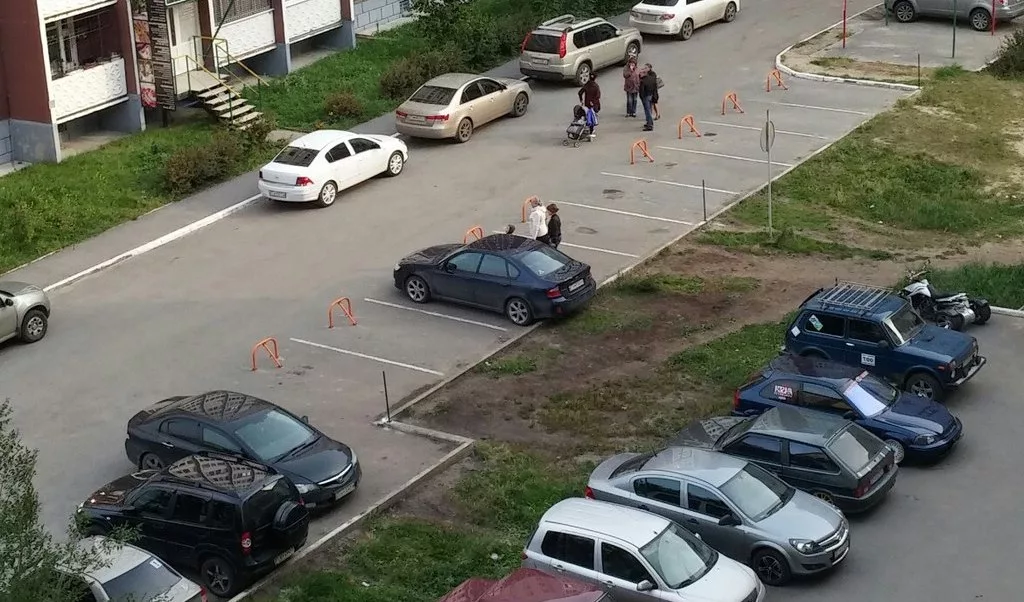Car: (584, 445, 851, 585), (79, 454, 310, 597), (124, 390, 361, 511), (732, 353, 963, 464), (523, 497, 766, 602), (669, 405, 898, 515), (784, 282, 985, 400), (393, 234, 596, 326), (258, 129, 408, 207), (49, 535, 210, 602), (394, 72, 532, 143), (518, 15, 644, 87), (439, 567, 612, 602), (898, 267, 991, 330), (629, 0, 742, 41), (884, 0, 1024, 31), (0, 280, 51, 344)
